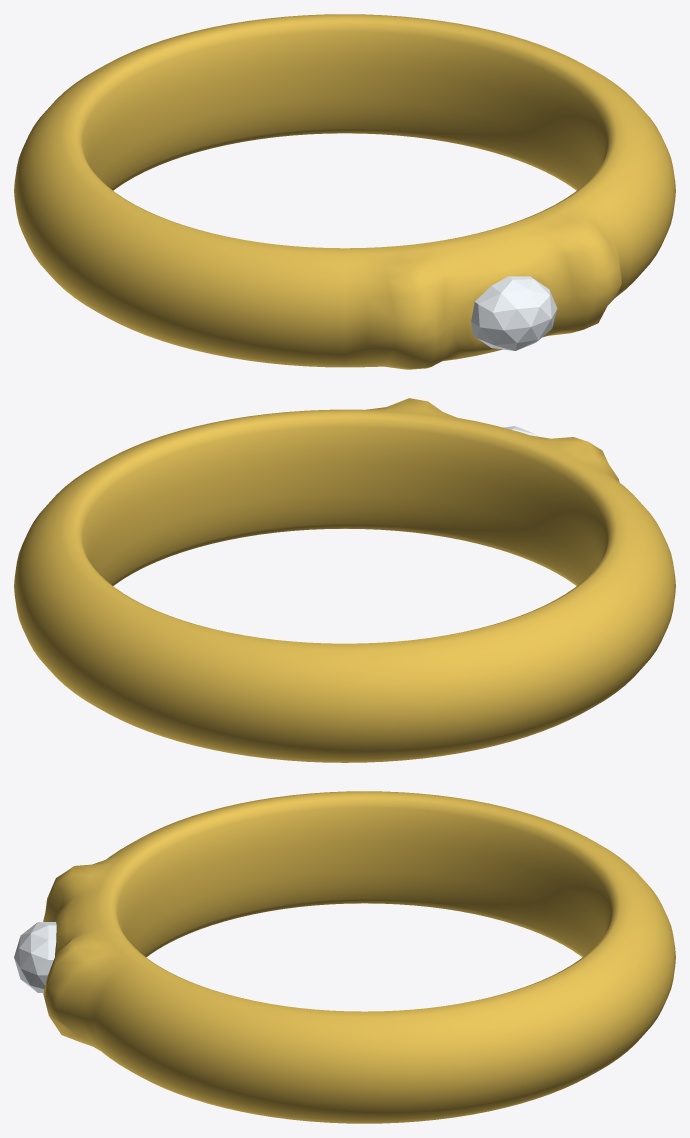
File: ring.glb
3 views of the same model, one above another, from view 1: azimuth 30°, elevation 25°; view 2: azimuth 150°, elevation 25°; view 3: azimuth 270°, elevation 25° (orthographic). The views are drawn at different scales.
Visible parts, largest first — view 1: Ring, Diamond; view 2: Ring; view 3: Ring, Diamond.
Boxes of the visible parts, box(x1,y1,x2,y2) form: Ring: box(14, 14, 675, 369); Diamond: box(471, 276, 557, 350); Ring: box(14, 398, 675, 762); Ring: box(43, 791, 675, 1123); Diamond: box(14, 922, 56, 992).
Bounding box in the file's own units: 2.47 × 0.4738 × 2.62.
